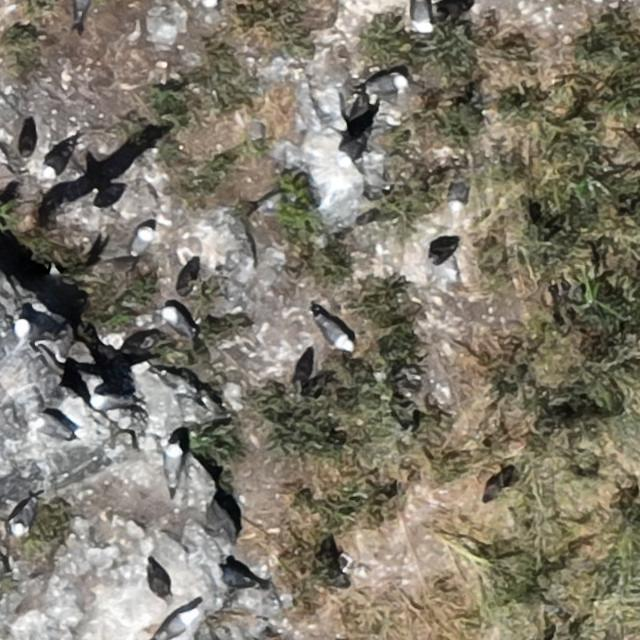umineko: (26, 414, 75, 444), (158, 606, 198, 640), (87, 393, 143, 414), (446, 170, 471, 214), (319, 317, 351, 350), (15, 321, 54, 342), (12, 502, 36, 533), (163, 307, 190, 333), (217, 568, 251, 588), (366, 75, 401, 94), (164, 444, 180, 484), (412, 1, 431, 33), (131, 227, 151, 255), (46, 154, 68, 176), (75, 0, 91, 19), (197, 0, 217, 7)
